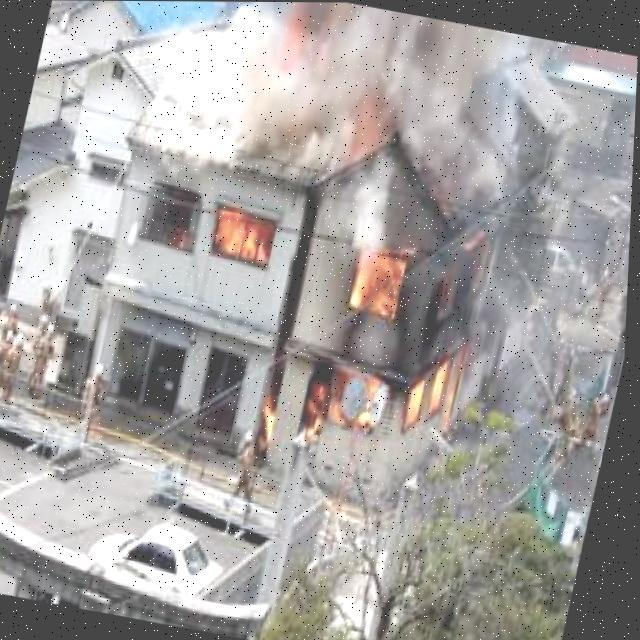Fire: (201, 197, 284, 273), (349, 243, 414, 326), (300, 379, 340, 447), (252, 392, 290, 459), (425, 357, 459, 418), (402, 378, 433, 429)
